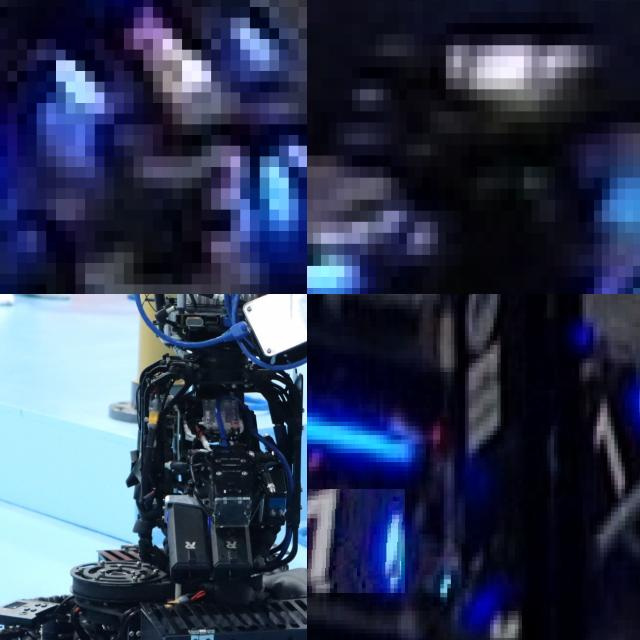B1: (307, 489, 404, 592)
B3: (307, 144, 414, 294)
